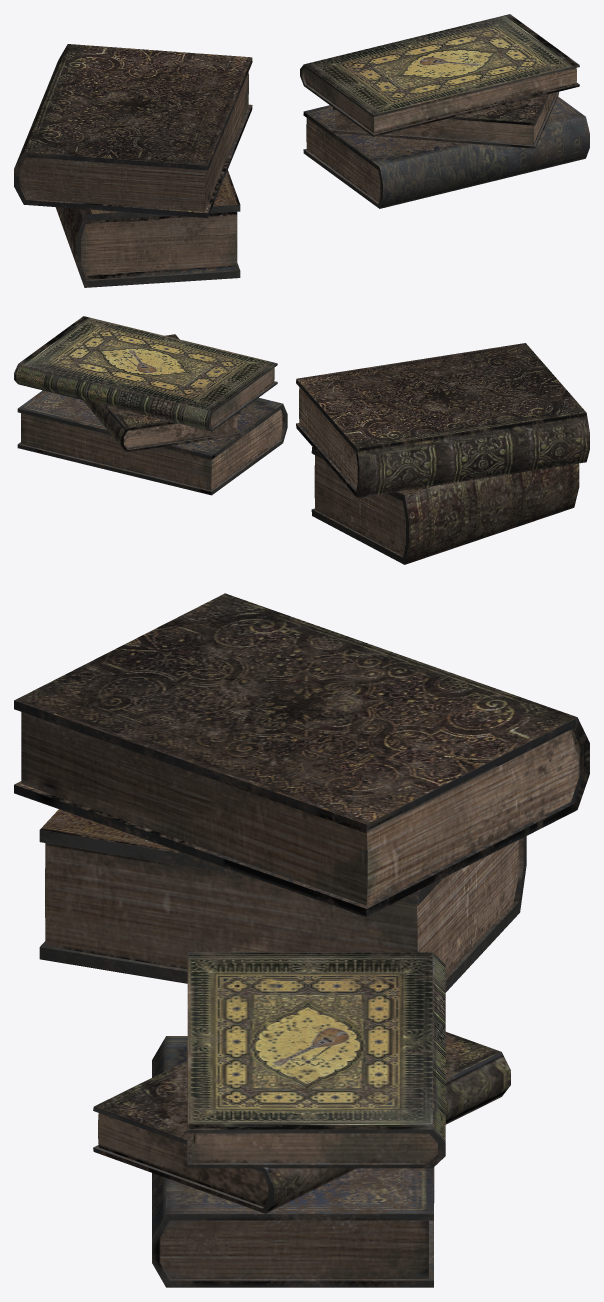
File: Hard_Cover_Books_OBJ.obj
3 views of the same model, one above another, from view 1: azimuth 30°, elevation 25°; view 2: azimuth 150°, elevation 25°; view 3: azimuth 270°, elevation 25° (orthographic). The views are drawn at different scales.
Visible parts, largest first — view 1: Books; view 2: Books; view 3: Books.
Part boxes in pixels (x1,y1,x2,y2): Books: (14, 14, 589, 287); Books: (14, 316, 589, 564); Books: (14, 593, 589, 1287).
Size of the model in its own units: 67.16 by 14.67 by 34.07.
Materials: 1 (1 with a texture image).
